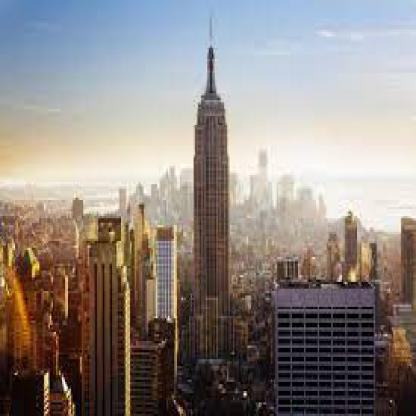Empire-State-building: (186, 6, 238, 361)
